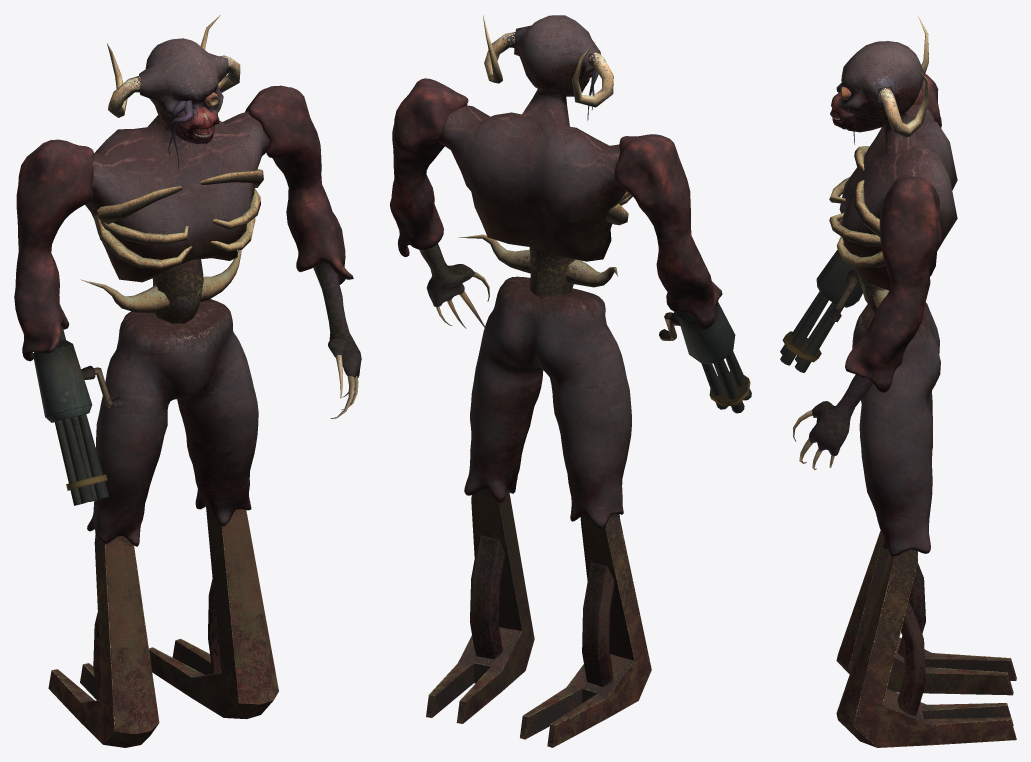
The model's file is Ghoul.glb.
3 views of the same model, side by side, from view 1: azimuth 30°, elevation 25°; view 2: azimuth 150°, elevation 25°; view 3: azimuth 270°, elevation 25° (orthographic). The views are drawn at different scales.
Visible parts, largest first — view 1: Pelvis, Leg, Torso, Arm_L, Arm_L.001, Minigun, Claw, Cube.008, Spine, Side Horn, Rib_1.001, Rib_1 (+5 smaller); view 2: Pelvis, Torso, Leg, Arm_L, Arm_L.001, Foreleg, Minigun, Claw, Horns, Side Horn, Spine, Cube.008; view 3: Leg, Torso, Pelvis, Arm_L.001, Foreleg, Claw, Minigun, Cube.008, Horns, Rib_1.002, Rib_1.001, Rib_1 (+4 smaller).
Boxes of the visible parts, <box> form: Pelvis: <box>87,299,258,546</box>; Leg: <box>48,505,278,747</box>; Torso: <box>85,38,269,282</box>; Arm_L: <box>14,139,94,361</box>; Arm_L.001: <box>245,85,353,284</box>; Minigun: <box>33,326,107,490</box>; Claw: <box>313,261,361,418</box>; Cube.008: <box>54,414,108,505</box>; Spine: <box>152,259,203,323</box>; Side Horn: <box>80,250,241,312</box>; Rib_1.001: <box>95,169,263,224</box>; Rib_1: <box>93,215,255,269</box>; Pelvis: <box>464,276,631,528</box>; Torso: <box>438,15,626,261</box>; Leg: <box>426,489,651,747</box>; Arm_L: <box>614,134,722,329</box>; Arm_L.001: <box>390,78,468,256</box>; Foreleg: <box>470,535,614,686</box>; Minigun: <box>677,302,750,406</box>; Claw: <box>419,244,489,328</box>; Horns: <box>483,15,613,107</box>; Side Horn: <box>458,234,618,287</box>; Spine: <box>529,247,578,298</box>; Cube.008: <box>701,351,751,413</box>; Leg: <box>836,530,1016,747</box>; Torso: <box>837,41,957,290</box>; Pelvis: <box>852,302,940,556</box>; Arm_L.001: <box>845,175,941,392</box>; Foreleg: <box>897,563,925,715</box>; Claw: <box>793,374,873,469</box>; Minigun: <box>782,244,862,362</box>; Cube.008: <box>780,291,843,372</box>; Horns: <box>878,16,928,137</box>; Rib_1.002: <box>829,177,880,246</box>; Rib_1.001: <box>854,146,880,237</box>; Rib_1: <box>836,219,885,267</box>.
Bounding box in the file's own units: 0.8982 × 1.81 × 0.5809.
Materials: 1 (1 with a texture image).
